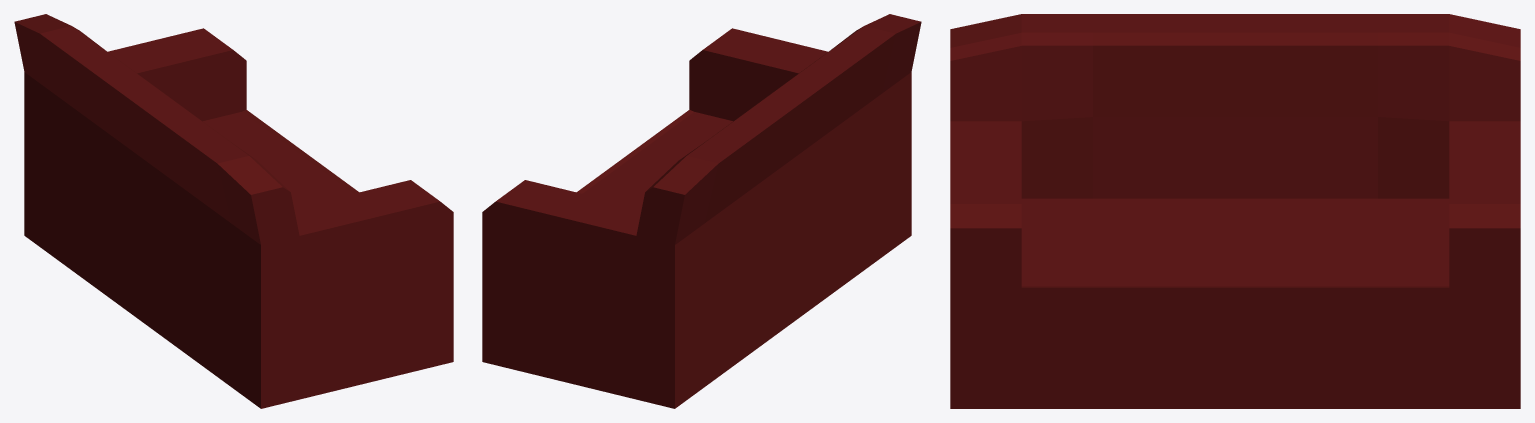
Rendered from Couch.fbx.
The picture shows the model from 3 angles, left to right: view 1: azimuth 30°, elevation 25°; view 2: azimuth 150°, elevation 25°; view 3: azimuth 270°, elevation 25°; orthographic projection. The views are drawn at different scales.
Parts seen in each view (by area): view 1: Cube; view 2: Cube; view 3: Cube.
Part boxes in pixels (x1=…): Cube: x1=14, y1=14, x2=453, y2=408; Cube: x1=482, y1=14, x2=921, y2=408; Cube: x1=950, y1=14, x2=1520, y2=408.
Size of the model in its own units: 107 by 113 by 213.
